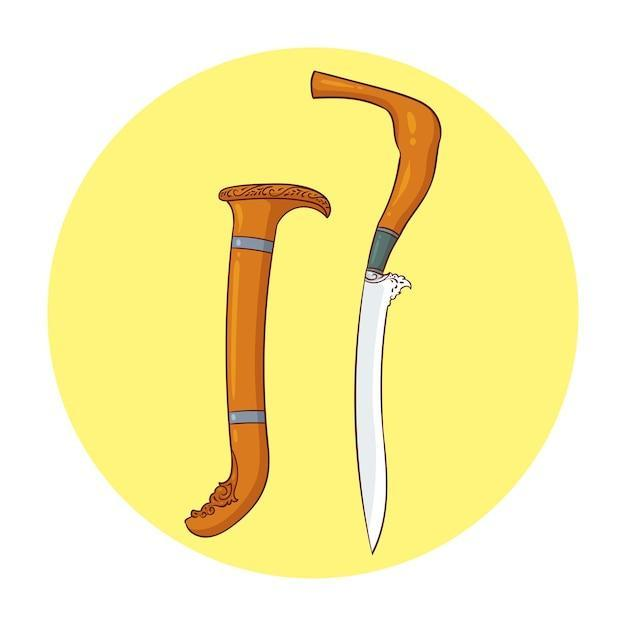facao: (279, 45, 513, 582), (134, 141, 334, 573)
